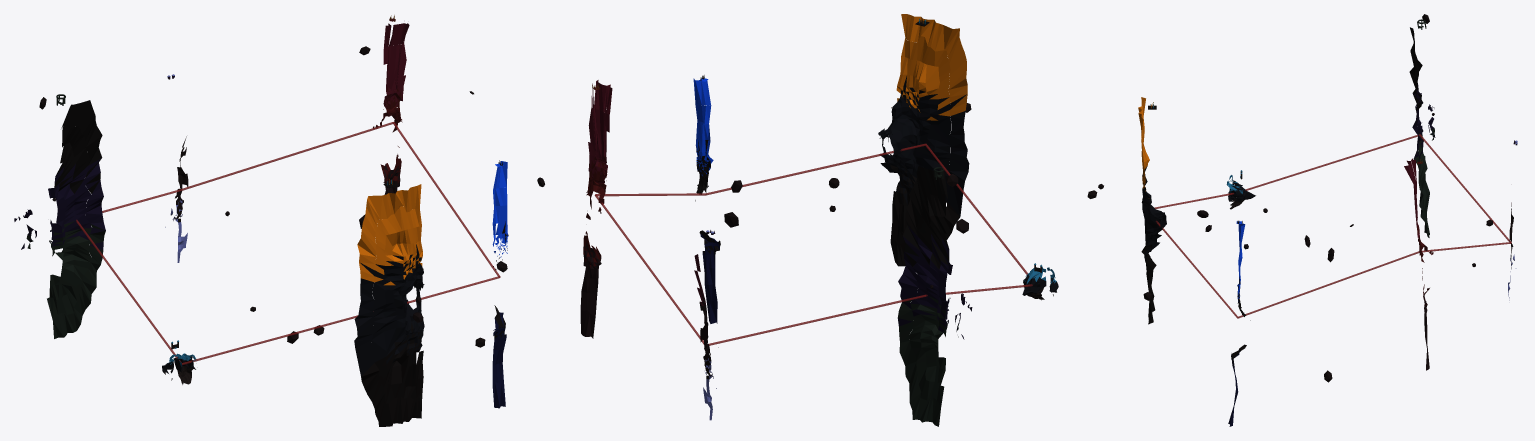
The model's file is mountain.obj.
3 renders of one model, left to right at view 1: azimuth 30°, elevation 25°; view 2: azimuth 150°, elevation 25°; view 3: azimuth 270°, elevation 25°, orthographic. The views are drawn at different scales.
Visible parts, largest first — view 1: DZ_CyberNexus, DZ_Ruins, DZ_Waterfall, DZ_Hotcliffland, DZ_Snowdin, DZ_CorridorCastle, Bridge_1_2, Bridge_4_5, Bridge_2_3; view 2: DZ_CyberNexus, DZ_Ruins, DZ_Waterfall, DZ_Hotcliffland, DZ_Snowdin, DZ_CorridorCastle, Bridge_0_1, Bridge_3_4; view 3: DZ_CyberNexus, DZ_Ruins, DZ_Waterfall, DZ_Hotcliffland, DZ_CorridorCastle, Bridge_2_3, Bridge_5_0.
Boxes of the visible parts, x1,y1,x2,y2 form: DZ_CyberNexus: [354, 184, 424, 426]; DZ_Ruins: [14, 100, 105, 338]; DZ_Waterfall: [373, 23, 409, 194]; DZ_Hotcliffland: [492, 161, 508, 408]; DZ_Snowdin: [165, 136, 188, 262]; DZ_CorridorCastle: [162, 353, 196, 384]; Bridge_1_2: [181, 122, 393, 190]; Bridge_4_5: [182, 311, 373, 364]; Bridge_2_3: [393, 122, 500, 277]; DZ_CyberNexus: [878, 14, 969, 266]; DZ_Ruins: [897, 166, 972, 426]; DZ_Waterfall: [580, 80, 612, 338]; DZ_Hotcliffland: [693, 78, 720, 323]; DZ_Snowdin: [694, 254, 718, 420]; DZ_CorridorCastle: [1022, 266, 1058, 300]; Bridge_0_1: [709, 294, 925, 345]; Bridge_3_4: [706, 143, 925, 195]; DZ_CyberNexus: [1138, 97, 1166, 324]; DZ_Ruins: [1409, 27, 1435, 237]; DZ_Waterfall: [1404, 158, 1433, 370]; DZ_Hotcliffland: [1228, 222, 1250, 426]; DZ_CorridorCastle: [1226, 175, 1255, 209]; Bridge_2_3: [1237, 251, 1419, 318]; Bridge_5_0: [1245, 134, 1419, 190].
Size of the model in its own units: 23.54 by 16.22 by 23.79.
